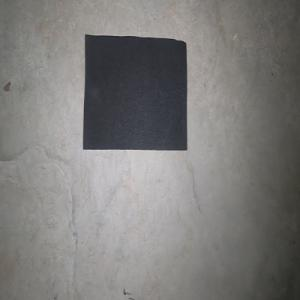PaintChip: (82, 33, 187, 150)
